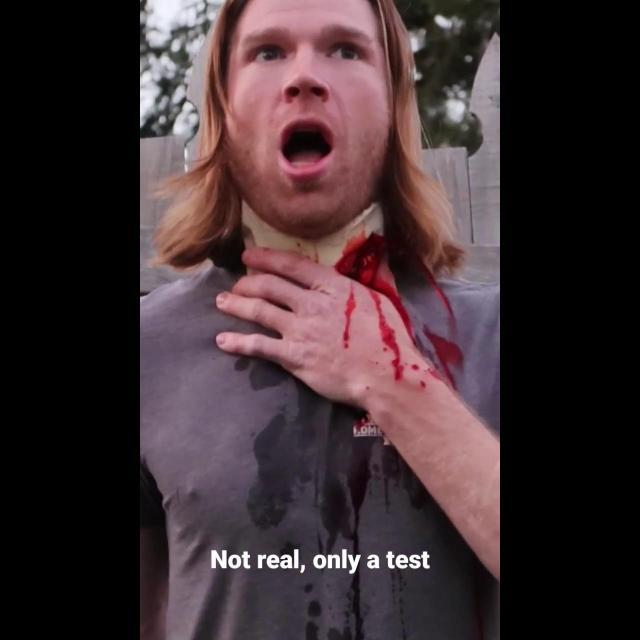blood: (334, 233, 417, 346), (421, 264, 464, 390), (368, 290, 408, 383), (342, 283, 356, 349), (415, 350, 440, 380)
